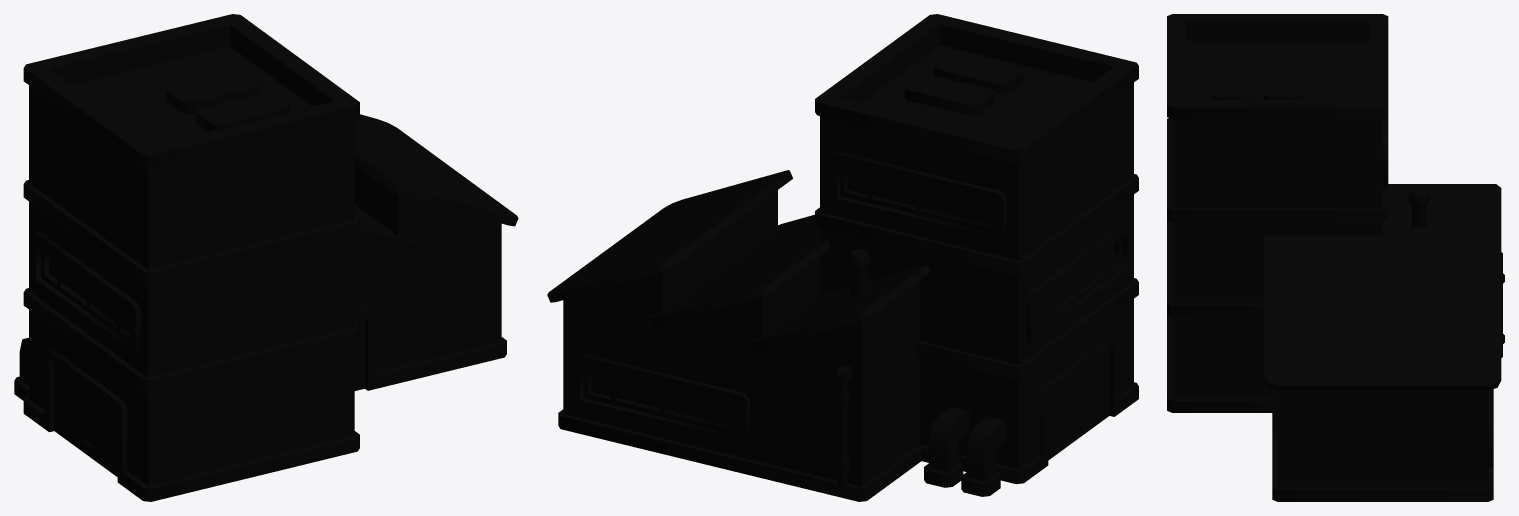
File: building-g.glb
3 views of the same model, side by side, from view 1: azimuth 30°, elevation 25°; view 2: azimuth 150°, elevation 25°; view 3: azimuth 270°, elevation 25° (orthographic). The views are drawn at different scales.
Parts seen in each view (by area): view 1: building-g; view 2: building-g; view 3: building-g.
Boxes of the visible parts, bbox=[...] form: building-g: bbox=[14, 14, 518, 501]; building-g: bbox=[547, 14, 1138, 501]; building-g: bbox=[1167, 14, 1504, 501].
Size of the model in its own units: 1.68 by 1.28 by 1.28.
1 material, 1 textured.
